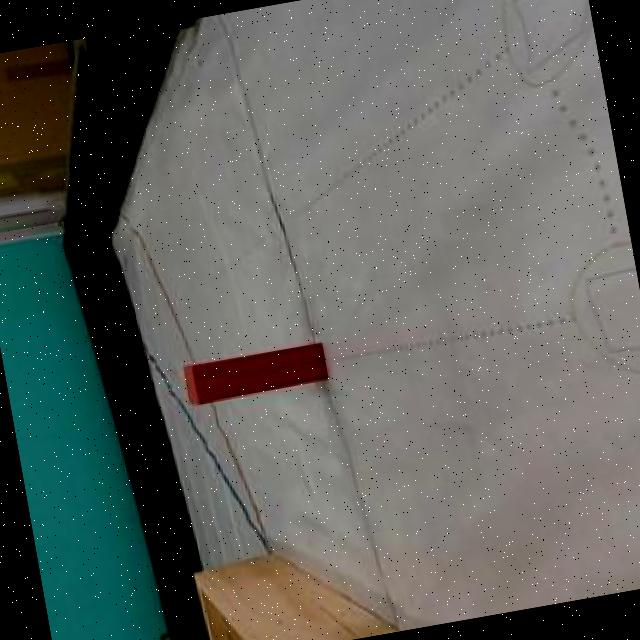redbox: (182, 339, 330, 405)
